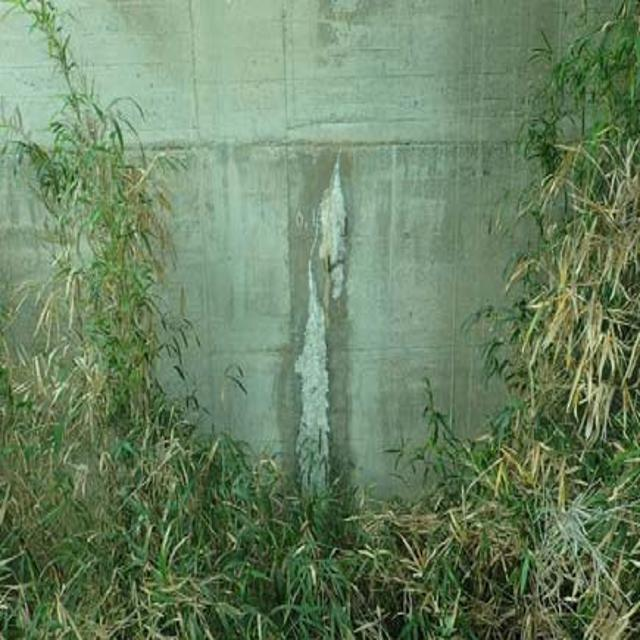freelime: (277, 157, 367, 503)
